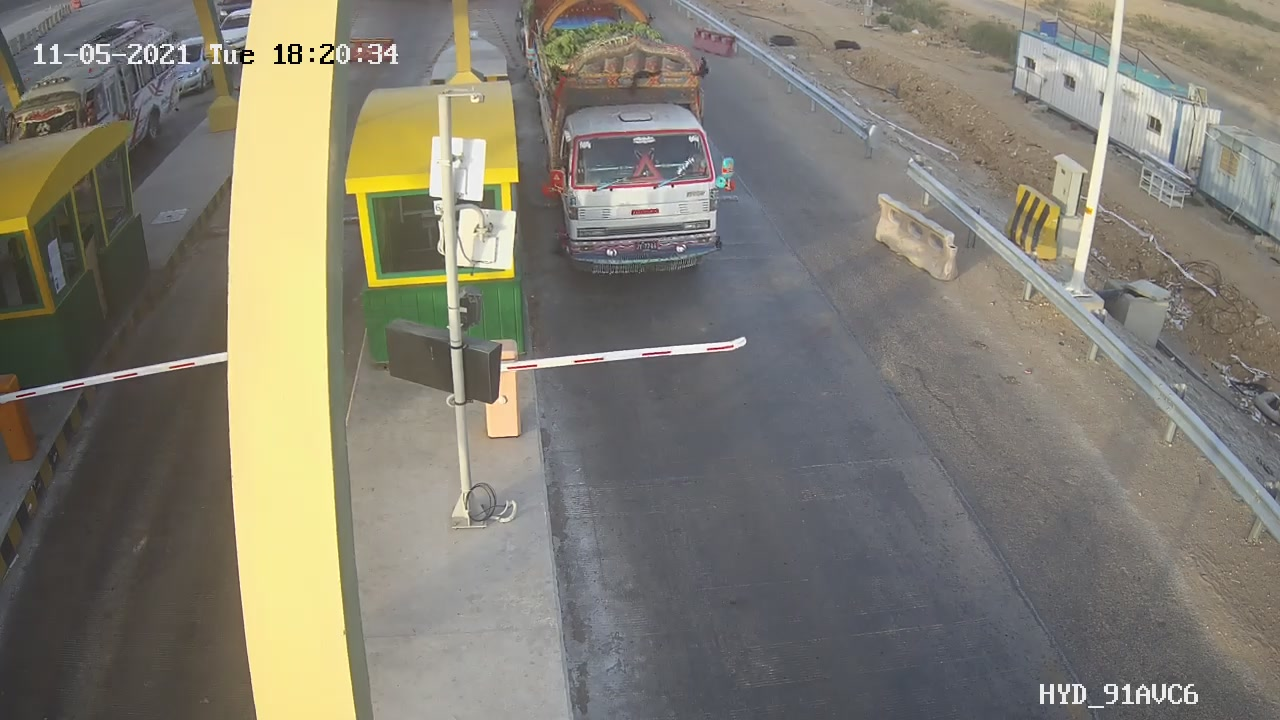F5: (525, 17, 744, 286)
